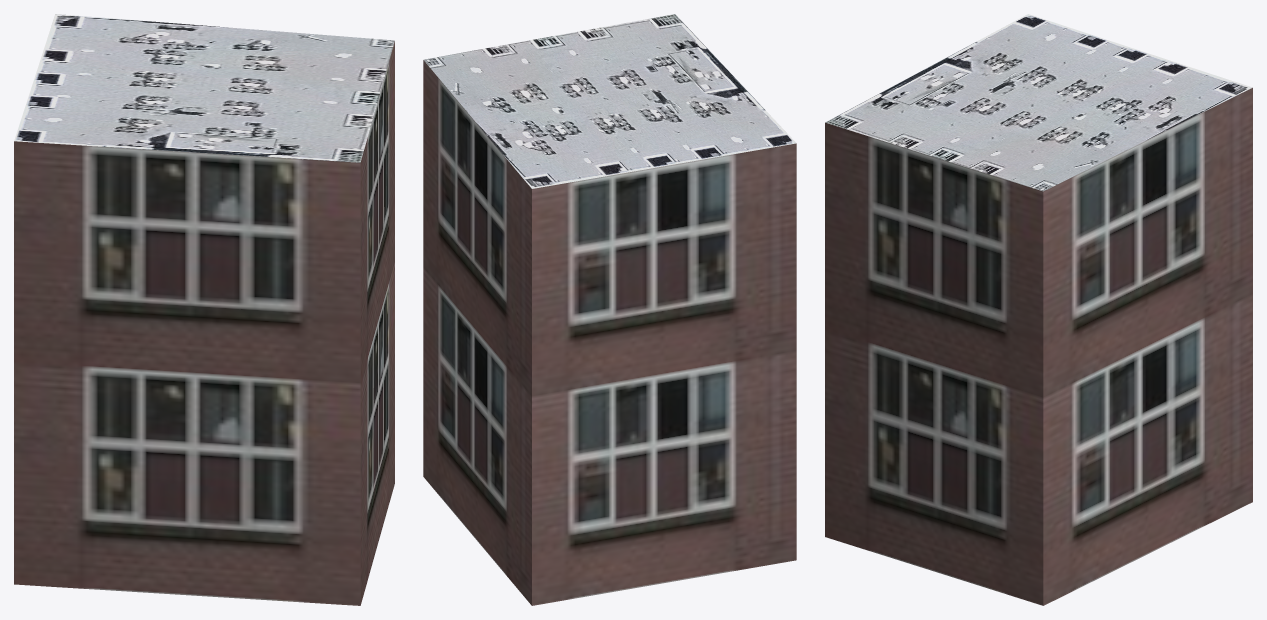
The model's file is ResTex__330.fbx.
3 views of the same model, side by side, from view 1: azimuth 30°, elevation 25°; view 2: azimuth 150°, elevation 25°; view 3: azimuth 270°, elevation 25° (orthographic). The views are drawn at different scales.
Parts seen in each view (by area): view 1: CityEngineMaterial_12_m, CityEngineMaterial_m; view 2: CityEngineMaterial_12_m, CityEngineMaterial_m; view 3: CityEngineMaterial_12_m, CityEngineMaterial_m.
Boxes of the visible parts, bbox=[...] form: CityEngineMaterial_12_m: bbox=[14, 41, 394, 605]; CityEngineMaterial_m: bbox=[14, 14, 394, 162]; CityEngineMaterial_12_m: bbox=[423, 60, 796, 605]; CityEngineMaterial_m: bbox=[423, 14, 796, 188]; CityEngineMaterial_12_m: bbox=[825, 88, 1252, 605]; CityEngineMaterial_m: bbox=[825, 14, 1252, 191].
Size of the model in its own units: 5.51 by 6 by 5.61.
2 materials, 2 textured.
